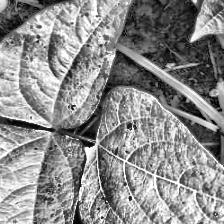Bean Rust: (75, 88, 224, 224), (0, 0, 142, 124), (0, 123, 80, 224)
